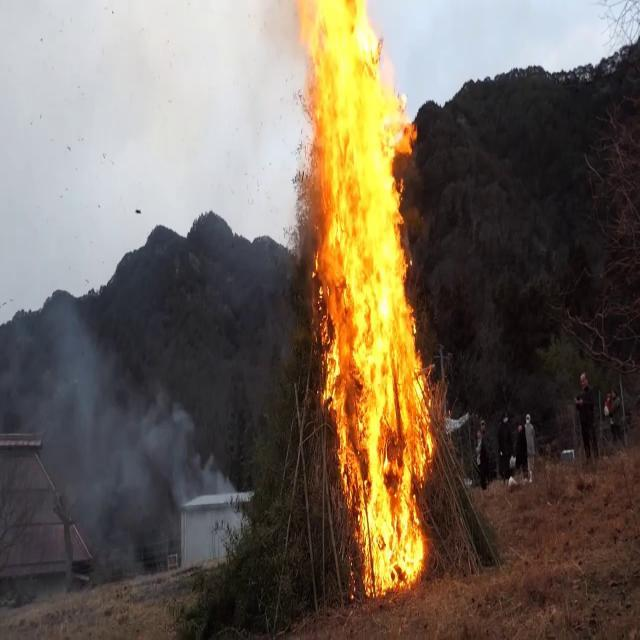Fire: (296, 0, 440, 599)
Smoke: (20, 299, 196, 574)
